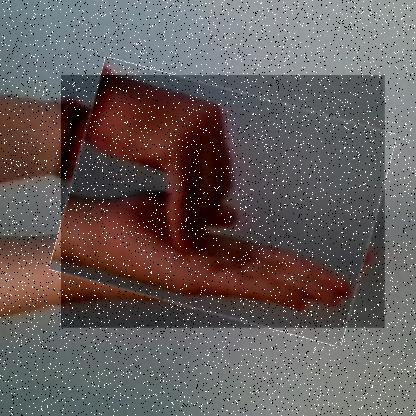Z: (61, 75, 386, 329)
